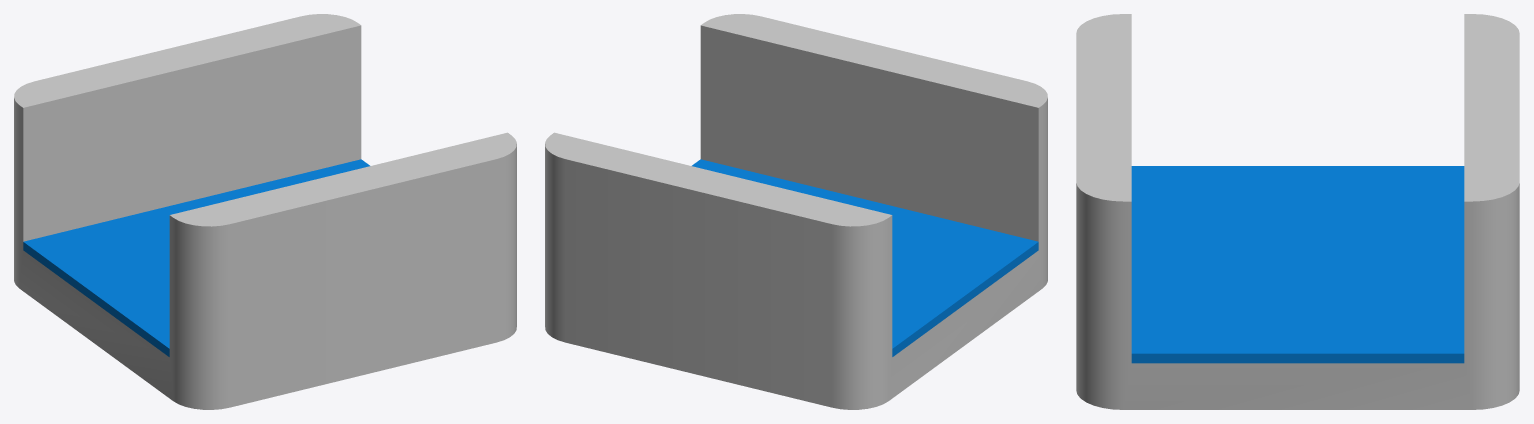
Rendered from river0.fbx.
3 views of the same model, side by side, from view 1: azimuth 30°, elevation 25°; view 2: azimuth 150°, elevation 25°; view 3: azimuth 270°, elevation 25° (orthographic). The views are drawn at different scales.
Parts seen in each view (by area): view 1: Ground.001, Ground.002; view 2: Ground.001, Ground.002; view 3: Ground.002, Ground.001.
Boxes of the visible parts, x1,y1,x2,y2 form: Ground.001: [14, 14, 516, 409]; Ground.002: [23, 159, 369, 356]; Ground.001: [545, 14, 1047, 409]; Ground.002: [692, 159, 1038, 356]; Ground.002: [1131, 166, 1464, 363]; Ground.001: [1076, 14, 1519, 409].
Size of the model in its own units: 800 by 415 by 800.
